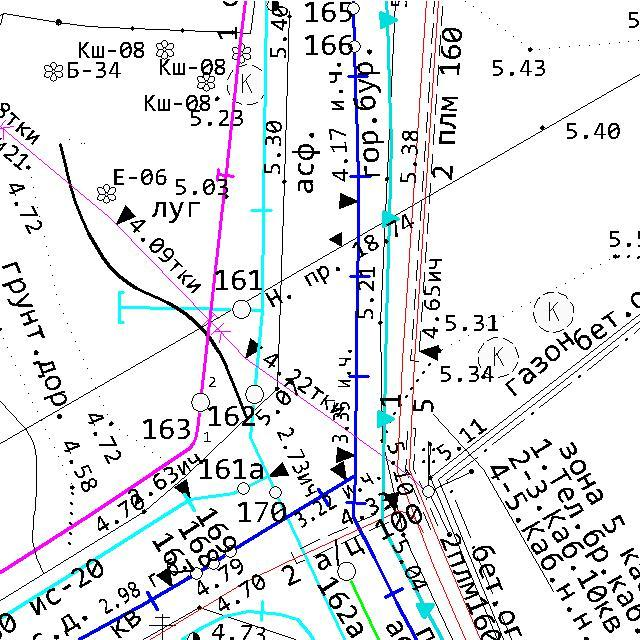asphalt: (289, 129, 323, 198)
bushes: (224, 61, 269, 106), (476, 336, 520, 380), (532, 290, 575, 334), (96, 183, 118, 205), (42, 61, 64, 82), (231, 43, 252, 64), (155, 39, 175, 61), (196, 72, 216, 92)
mark: (242, 337, 264, 361), (114, 204, 136, 227), (328, 460, 348, 482), (155, 566, 175, 588), (173, 478, 192, 501), (337, 191, 359, 210), (334, 445, 356, 464), (268, 461, 291, 478), (421, 342, 440, 362), (384, 491, 400, 513), (328, 230, 343, 248)
well: (334, 559, 359, 584), (188, 390, 212, 414), (230, 298, 253, 322), (243, 383, 266, 406), (267, 484, 284, 501), (236, 480, 252, 497), (347, 38, 363, 55), (345, 1, 362, 16)
